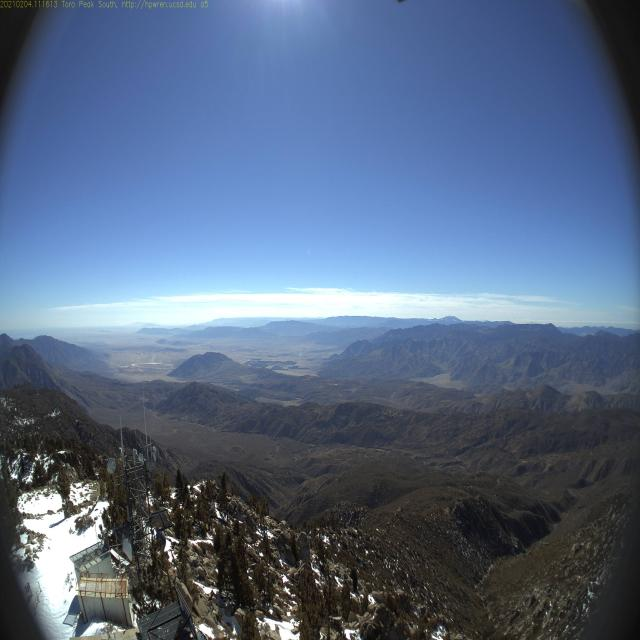smoke: (297, 349, 308, 361)
